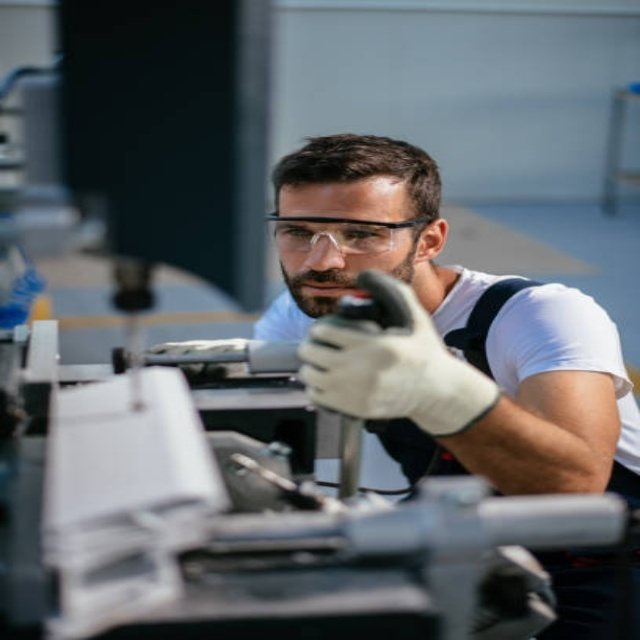Gafas: (267, 216, 430, 256)
Guantes: (297, 270, 501, 437)
Sin_mascara: (285, 265, 344, 314)
